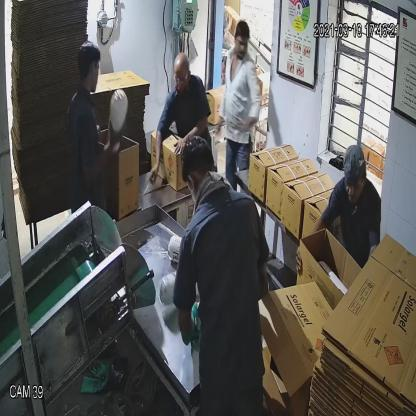no_glove: (78, 112, 126, 182), (171, 116, 214, 156), (145, 124, 164, 187), (234, 103, 261, 136)
